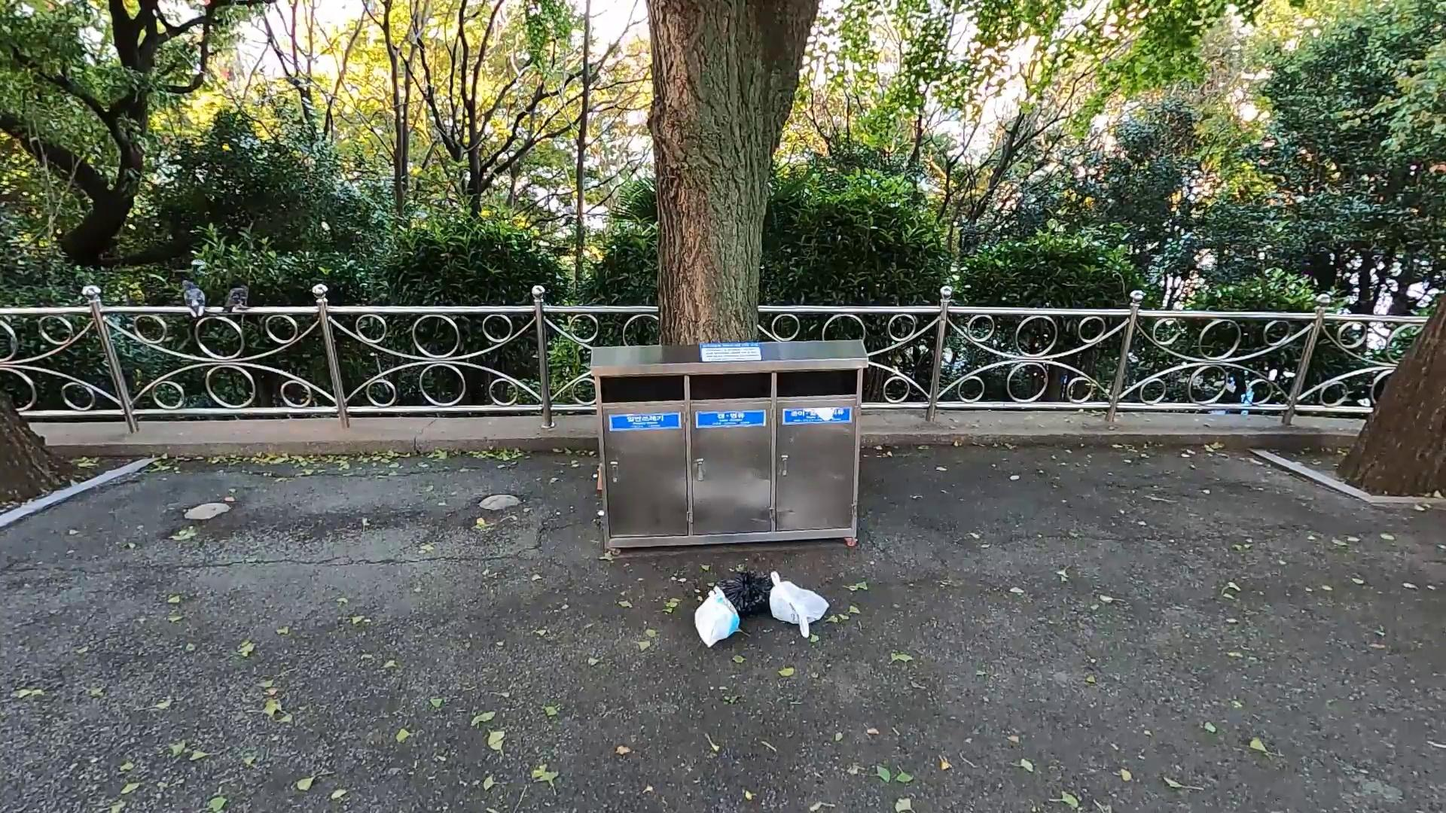trash: (768, 565, 829, 638), (693, 587, 747, 650), (727, 565, 778, 621)
